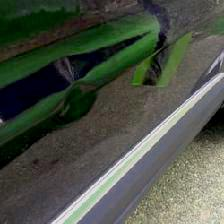door_dent: (46, 70, 102, 134)
